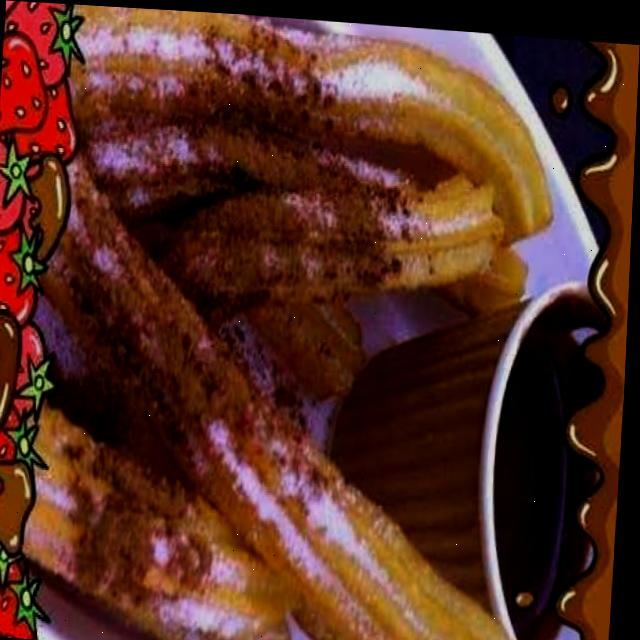炸货点心: (7, 8, 606, 640)
